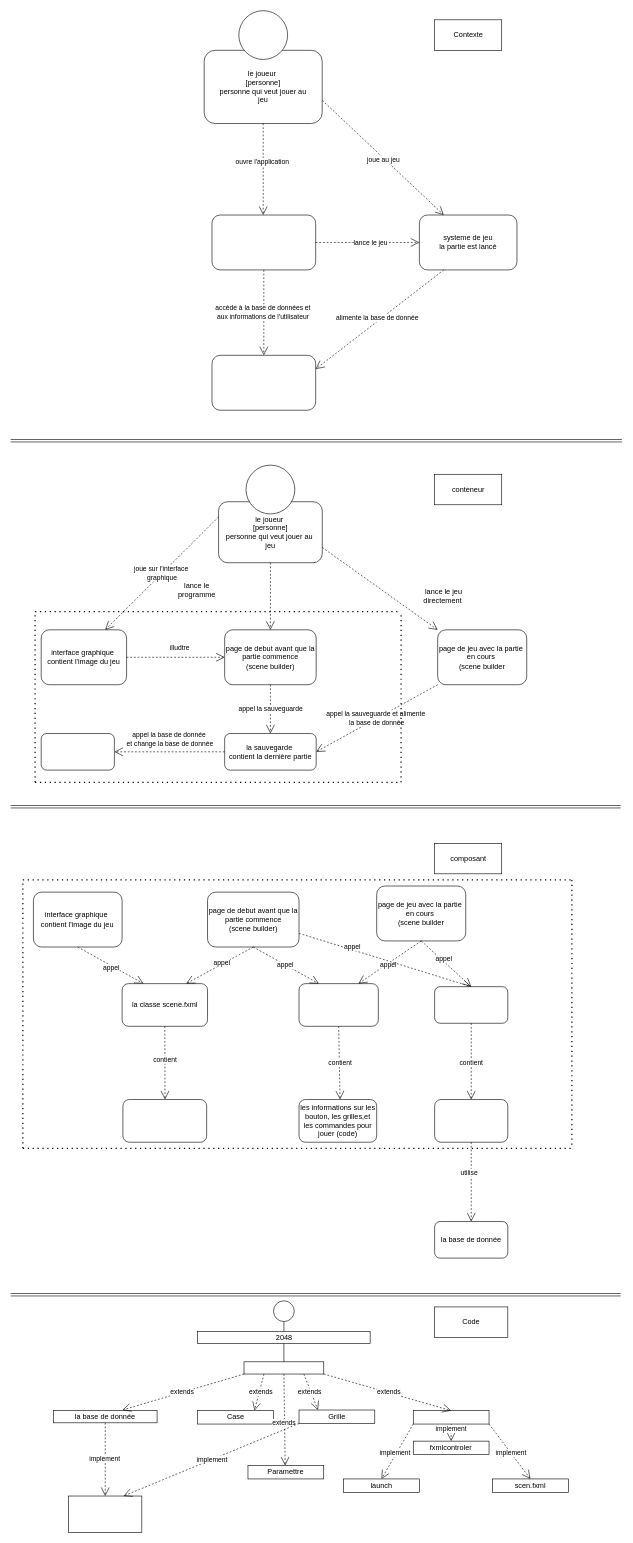
Some shapes in this 633 by 1543 pixel diagram are drawn without their labels. The shapes that lost their labels are listed below. From the top down, each one's box as (x1, y1, x2, y2) in pixels, then its label:
(211, 214, 316, 270): systeme menu principal le menu du jeu
(211, 355, 316, 410): systeme de stockage des données meilleur score partie sauvaguerder
(41, 733, 114, 770): la base de donnée contient les informations de la sauvegarde
(298, 983, 378, 1026): la classe Grille,Case,Parametres, main
(434, 986, 508, 1023): la classe BaseDeDonnee
(122, 1099, 207, 1142): les informations sur les boutons, les grilles,les couleur...(image)
(434, 1099, 508, 1142): les informations de sauvegarde et de base de donnée
(243, 1361, 324, 1374): la classe main
(413, 1410, 489, 1424): scenebuiler
(68, 1495, 142, 1533): BaseDeDonnee
